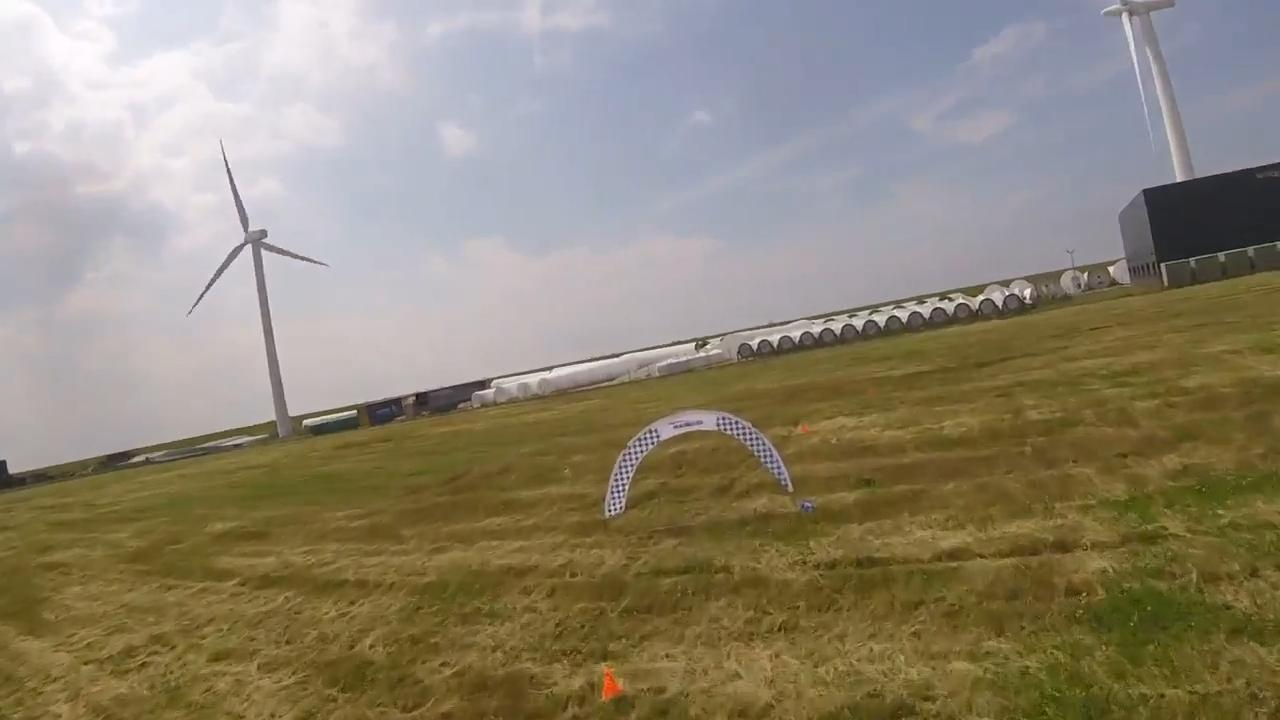gate: (604, 409, 793, 516)
